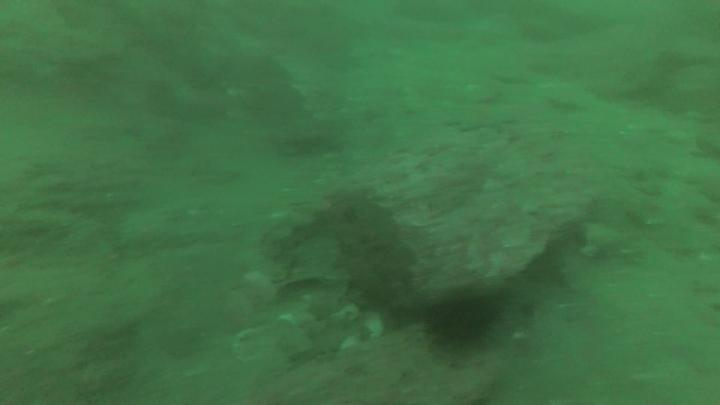echinus: (427, 302, 497, 346)
